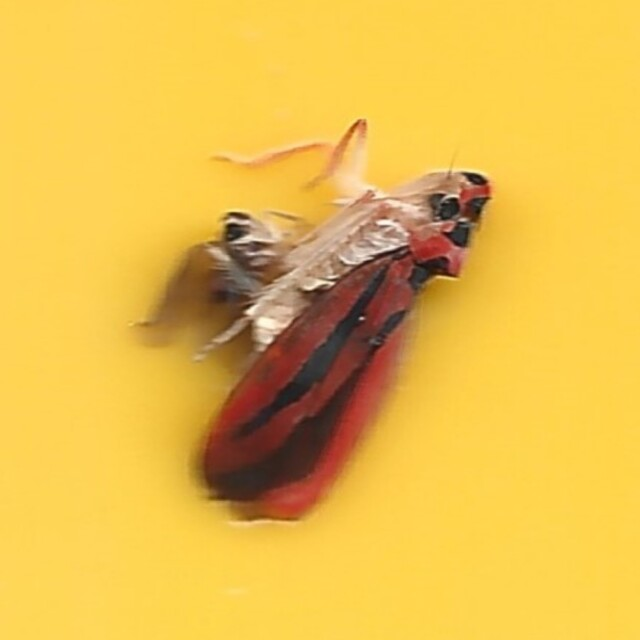Hemiptera: (146, 116, 494, 524)
